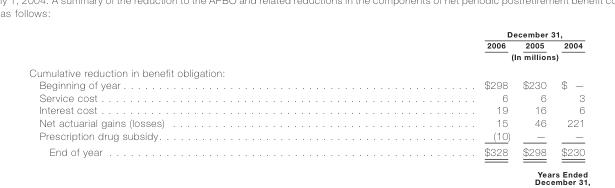table: (28, 28, 584, 157)
table column: (28, 28, 323, 157), (323, 28, 515, 157), (515, 28, 553, 157), (553, 28, 584, 157)
table column header: (28, 28, 584, 63)
table projected row header: (28, 63, 584, 78)
table row: (28, 63, 584, 78), (28, 128, 584, 143), (28, 143, 584, 157), (28, 50, 584, 63), (28, 90, 584, 103), (28, 103, 584, 116), (28, 78, 584, 90), (28, 116, 584, 128), (28, 28, 584, 39), (28, 39, 584, 50)
table spanning cell: (323, 50, 584, 63), (323, 28, 584, 39)
